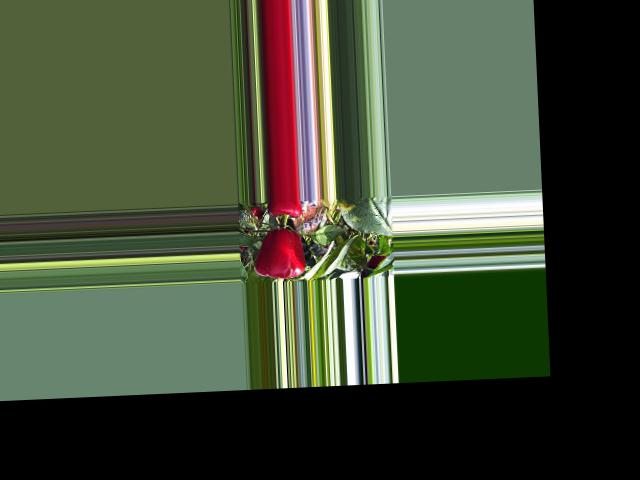bell_pepper: (265, 199, 306, 222)
